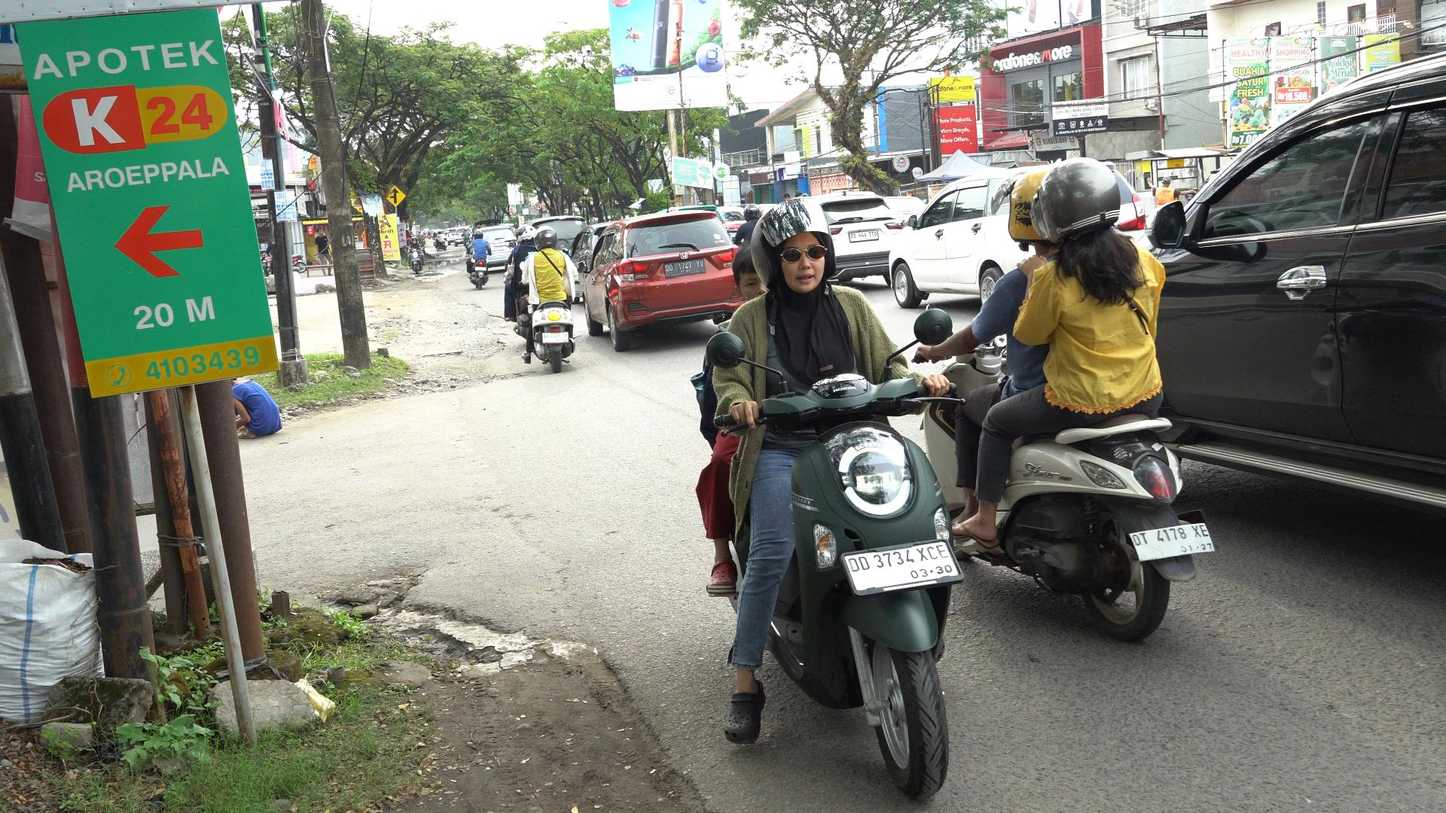number-plate: (842, 531, 965, 607)
